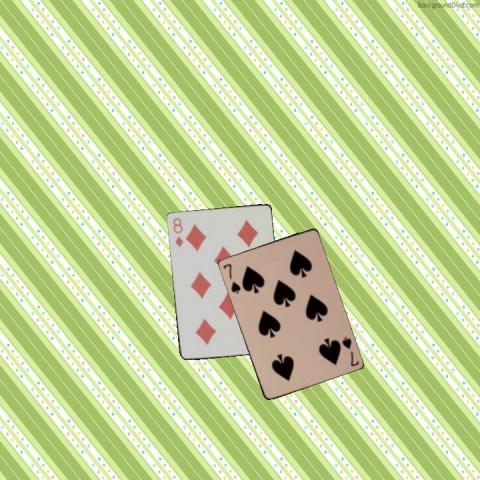7s: (220, 261, 242, 295), (339, 334, 360, 367)
8d: (170, 215, 185, 248)
